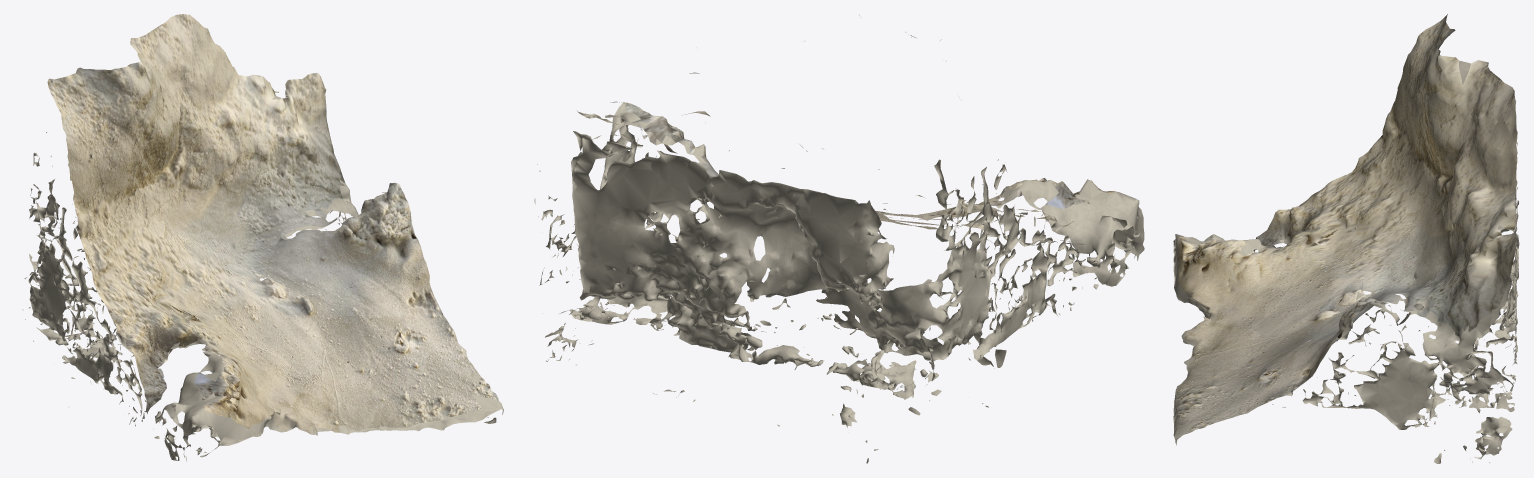
File: holon_textured_mesh_lowpoly_glb.glb
3 renders of one model, left to right at view 1: azimuth 30°, elevation 25°; view 2: azimuth 150°, elevation 25°; view 3: azimuth 270°, elevation 25°, orthographic. The views are drawn at different scales.
Bounding box in the file's own units: 4.08 × 4 × 4.08.
1 material, 1 textured.
